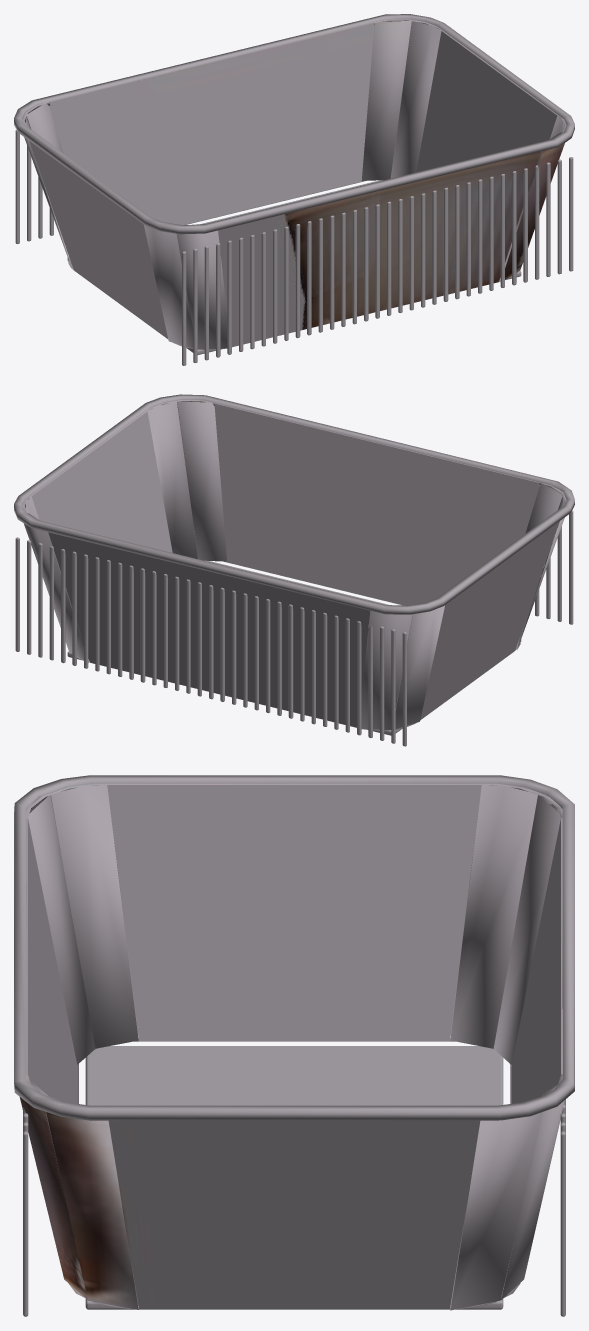
3 renders of one model, top to bottom at view 1: azimuth 30°, elevation 25°; view 2: azimuth 150°, elevation 25°; view 3: azimuth 270°, elevation 25°, orthographic. The views are drawn at different scales.
Visible parts, largest first — view 1: continuous rounded tapered body, rounded rolled rim, vertical molded flute.020, vertical molded flute.046, vertical molded flute, vertical molded flute.002, vertical molded flute.016, vertical molded flute.052, vertical molded flute.064, vertical molded flute.004, vertical molded flute.006, vertical molded flute.012 (+27 smaller); view 2: continuous rounded tapered body, rounded rolled rim, vertical molded flute.021, vertical molded flute.047, vertical molded flute.067, vertical molded flute.005, vertical molded flute.055, vertical molded flute.069, vertical molded flute.003, vertical molded flute.009, vertical molded flute.019, vertical molded flute.065 (+27 smaller); view 3: continuous rounded tapered body, body bottom, rounded rolled rim, vertical molded flute.068, vertical molded flute.069.
Boxes of the visible parts, x1=… form: continuous rounded tapered body: x1=22, y1=19, x2=566, y2=350; rounded rolled rim: x1=14, y1=14, x2=574, y2=234; vertical molded flute.020: x1=295, y1=224, x2=300, y2=338; vertical molded flute.046: x1=443, y1=187, x2=448, y2=301; vertical molded flute: x1=182, y1=251, x2=186, y2=365; vertical molded flute.002: x1=193, y1=248, x2=197, y2=362; vertical molded flute.016: x1=273, y1=229, x2=277, y2=343; vertical molded flute.052: x1=478, y1=179, x2=482, y2=293; vertical molded flute.064: x1=546, y1=162, x2=550, y2=276; vertical molded flute.004: x1=204, y1=245, x2=208, y2=360; vertical molded flute.006: x1=216, y1=243, x2=220, y2=357; vertical molded flute.012: x1=250, y1=235, x2=254, y2=349; continuous rounded tapered body: x1=22, y1=399, x2=566, y2=730; rounded rolled rim: x1=14, y1=394, x2=574, y2=614; vertical molded flute.021: x1=288, y1=604, x2=293, y2=718; vertical molded flute.047: x1=140, y1=568, x2=145, y2=682; vertical molded flute.067: x1=27, y1=540, x2=31, y2=654; vertical molded flute.005: x1=380, y1=626, x2=384, y2=740; vertical molded flute.055: x1=95, y1=557, x2=99, y2=671; vertical molded flute.069: x1=15, y1=537, x2=19, y2=651; vertical molded flute.003: x1=391, y1=629, x2=395, y2=743; vertical molded flute.009: x1=357, y1=621, x2=361, y2=735; vertical molded flute.019: x1=300, y1=607, x2=304, y2=721; vertical molded flute.065: x1=38, y1=543, x2=42, y2=657; continuous rounded tapered body: x1=19, y1=783, x2=564, y2=1310; body bottom: x1=85, y1=1046, x2=503, y2=1309; rounded rolled rim: x1=14, y1=775, x2=574, y2=1120; vertical molded flute.068: x1=23, y1=1131, x2=28, y2=1316; vertical molded flute.069: x1=560, y1=1131, x2=565, y2=1316.
Bounding box in the file's own units: 0.2227 × 0.074 × 0.1573.
Materials: 2 (1 with a texture image).
